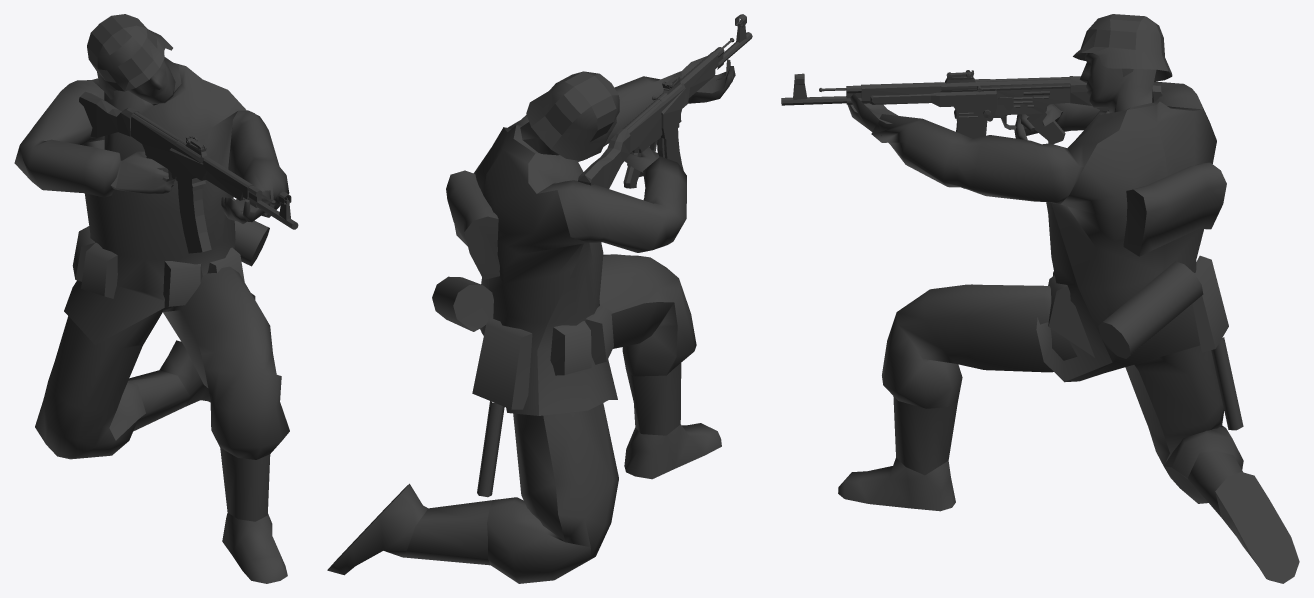
File: de_stg_acc.glb
3 views of the same model, side by side, from view 1: azimuth 30°, elevation 25°; view 2: azimuth 150°, elevation 25°; view 3: azimuth 270°, elevation 25° (orthographic).
Parts seen in each view (by area): view 1: SketchUp.045_ID2.001_18; view 2: SketchUp.045_ID2.001_18; view 3: SketchUp.045_ID2.001_18.
Part boxes in pixels (x1,y1,x2,y2): SketchUp.045_ID2.001_18: [14, 14, 298, 583]; SketchUp.045_ID2.001_18: [327, 14, 752, 583]; SketchUp.045_ID2.001_18: [781, 14, 1299, 583].
Bounding box in the file's own units: 0.2333 × 0.387 × 0.3759.
Materials: 1 (1 with a texture image).
